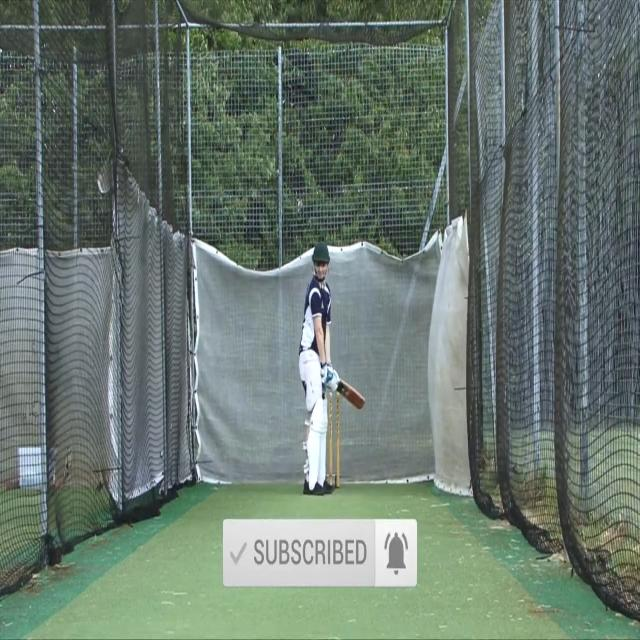batsman: (298, 240, 367, 498)
